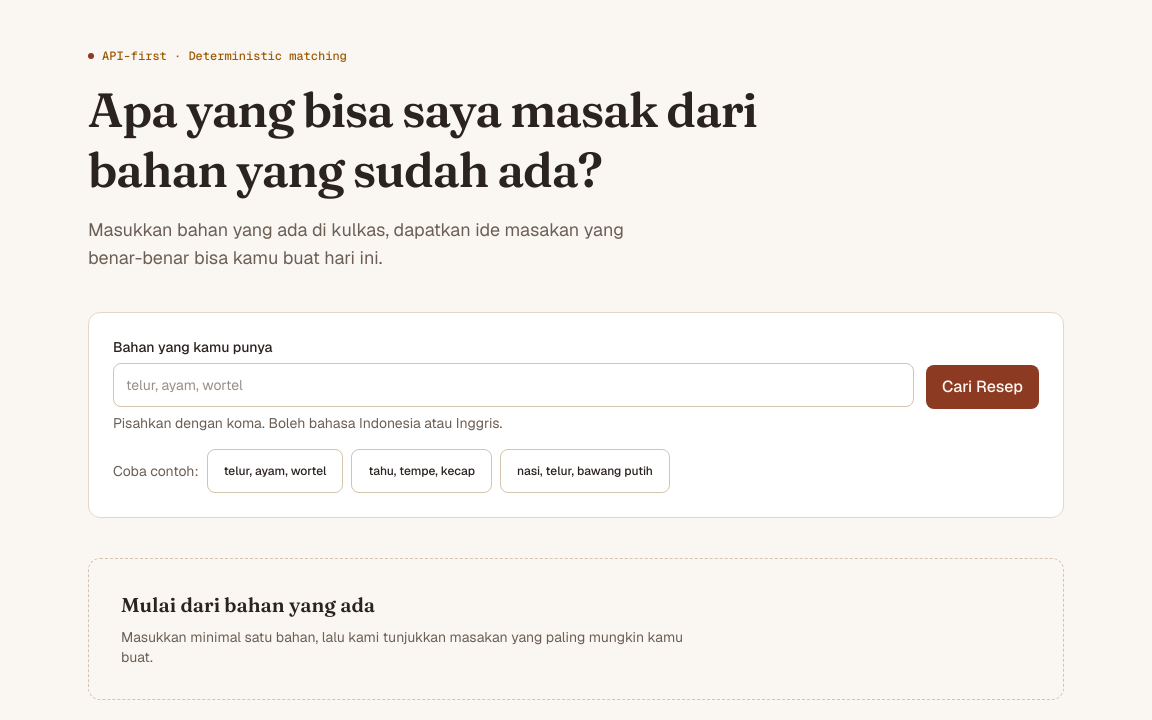
Test: Halaman utama › kamus gagal dimuat tidak menghalangi hasil
The image size is (1152, 720).
Type "telur, ayam" into the field labelled "Bahan yang kamu punya". click: (513, 385)
box: [113,363,914,407]
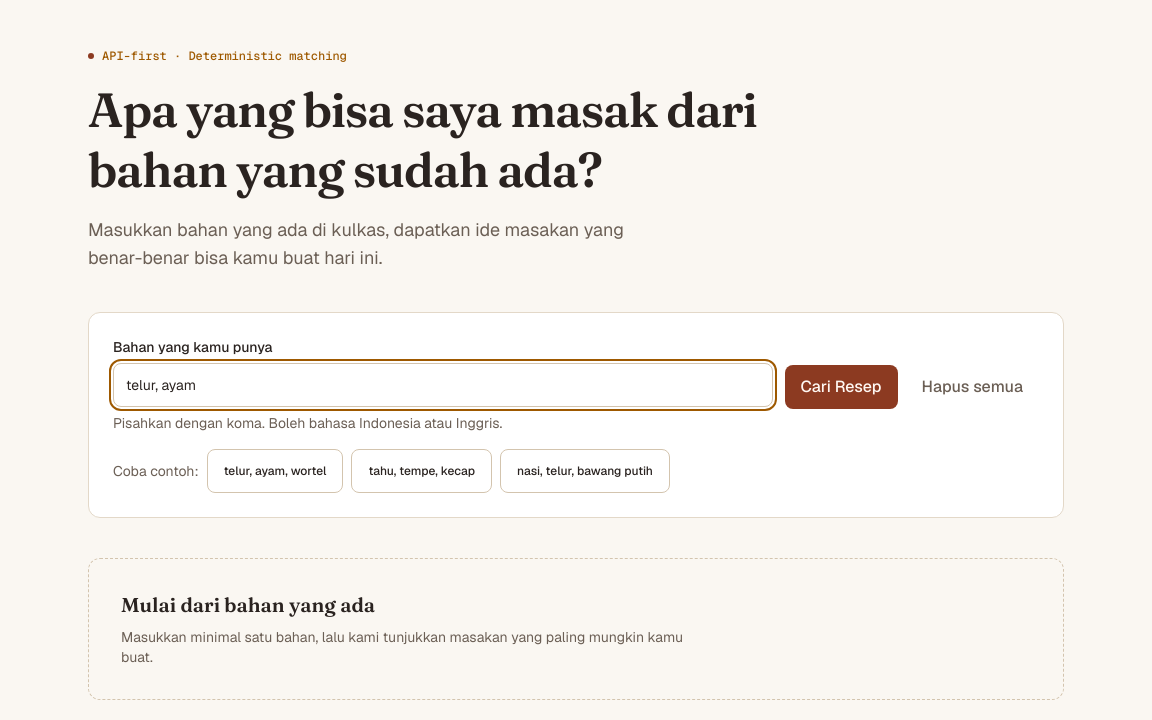
Click the button "Cari Resep". click: (841, 387)
box: [784,365,898,409]
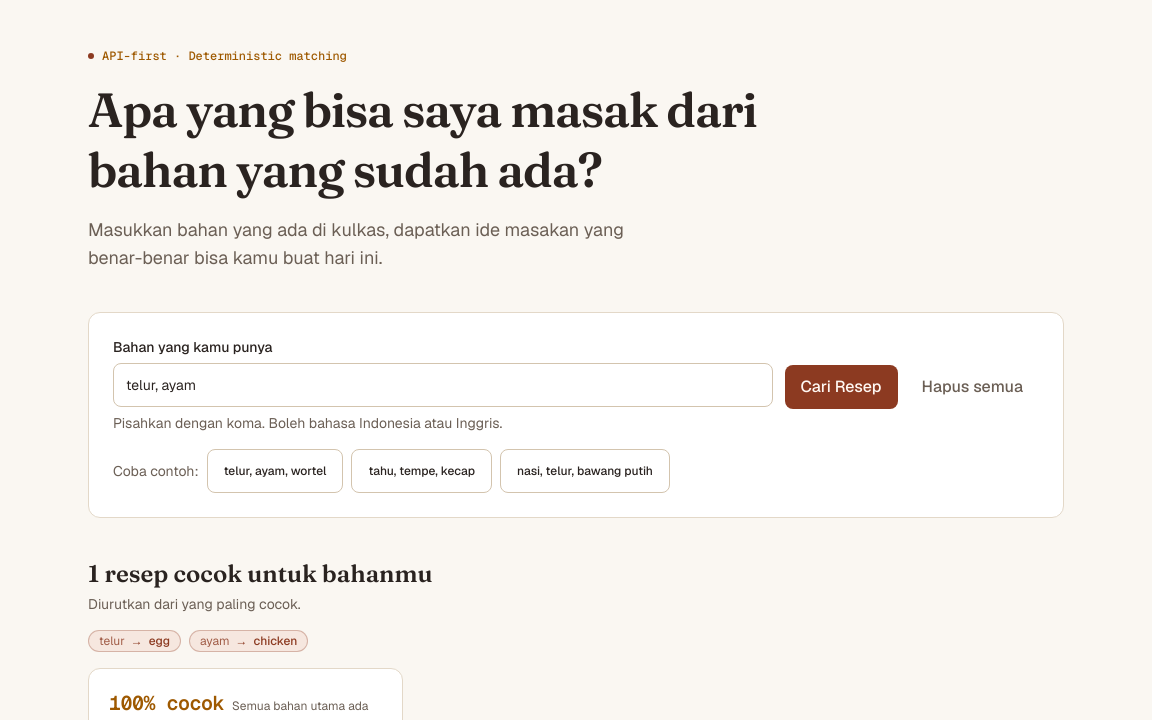
Result: the heading "1 resep cocok untuk bahanmu" is shown at [88,559,433,588]
Result: the element named "Bahan yang dicari" shows "egg" at [149,633,170,649]
